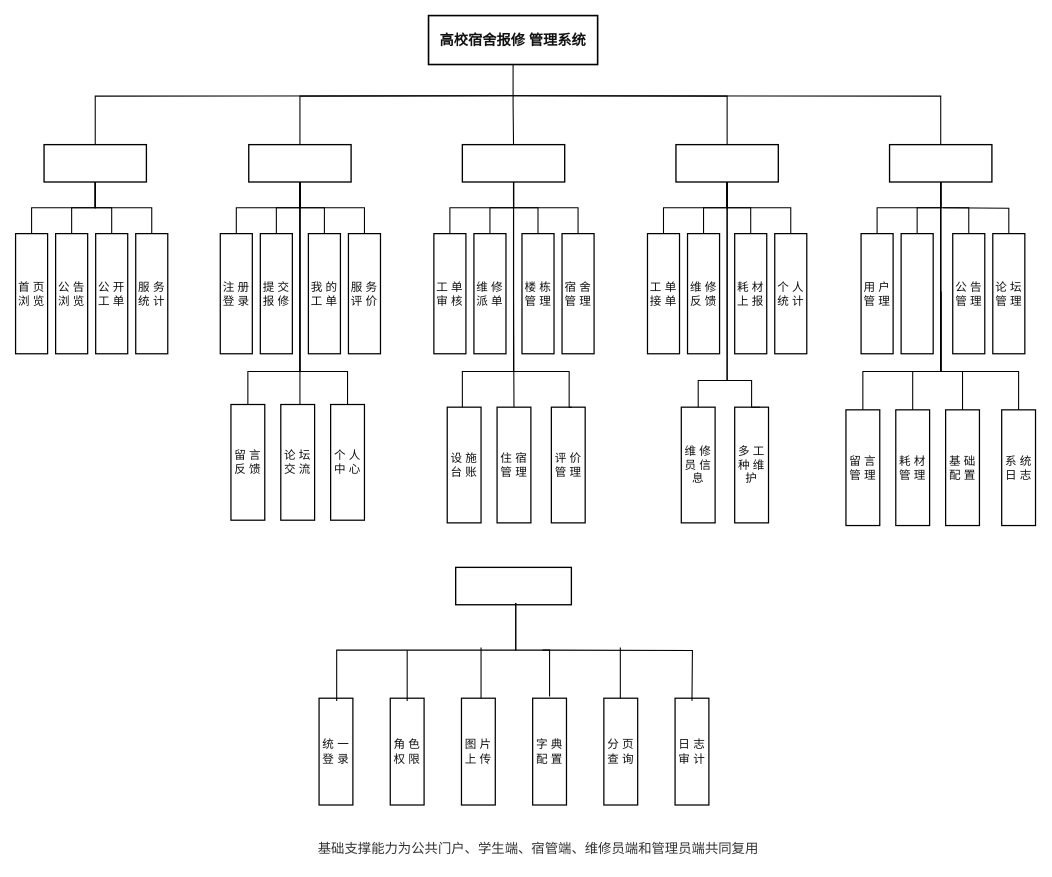
The diagram is 1052 pixels wide and 877 high, and some of its shapes have lost their labels. Each missing label, with the centre of its shape:
公共门户: (x=95, y=163)
基础支撑能力: (x=513, y=585)
学生端功能: (x=299, y=163)
宿管端功能: (x=513, y=163)
数 据 统 计: (x=916, y=293)
管理员端功能: (x=940, y=163)
维修员端功能: (x=727, y=163)
